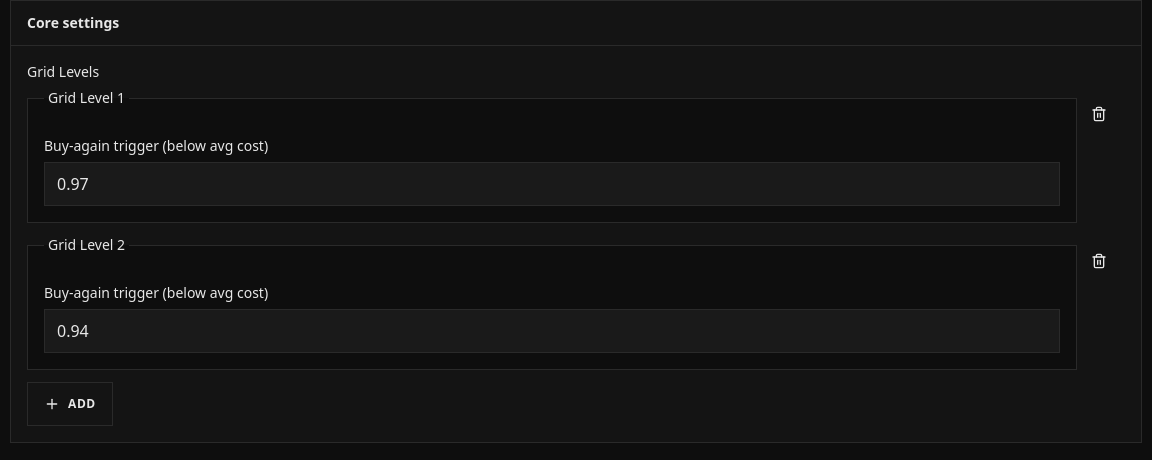
AutoForm › labels array rows with the singularised label and removes a row on click
This screenshot has width=1152, height=460.
Expected: the text "Grid Level 1" is shown once, [44,88,129,108]
Expected: the text "Grid Level 2" is shown once, [44,235,129,255]
// The per-row remove control drops that row.
Click the button named "Remove Grid Level 1" at (1099, 114), box [1077,92,1121,136]
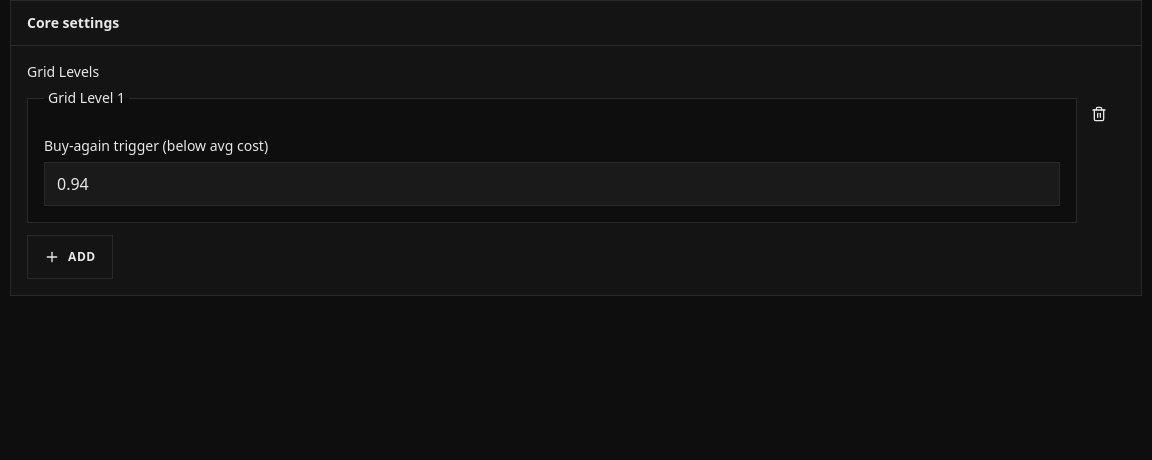
Now the text "Grid Level 2" is gone
